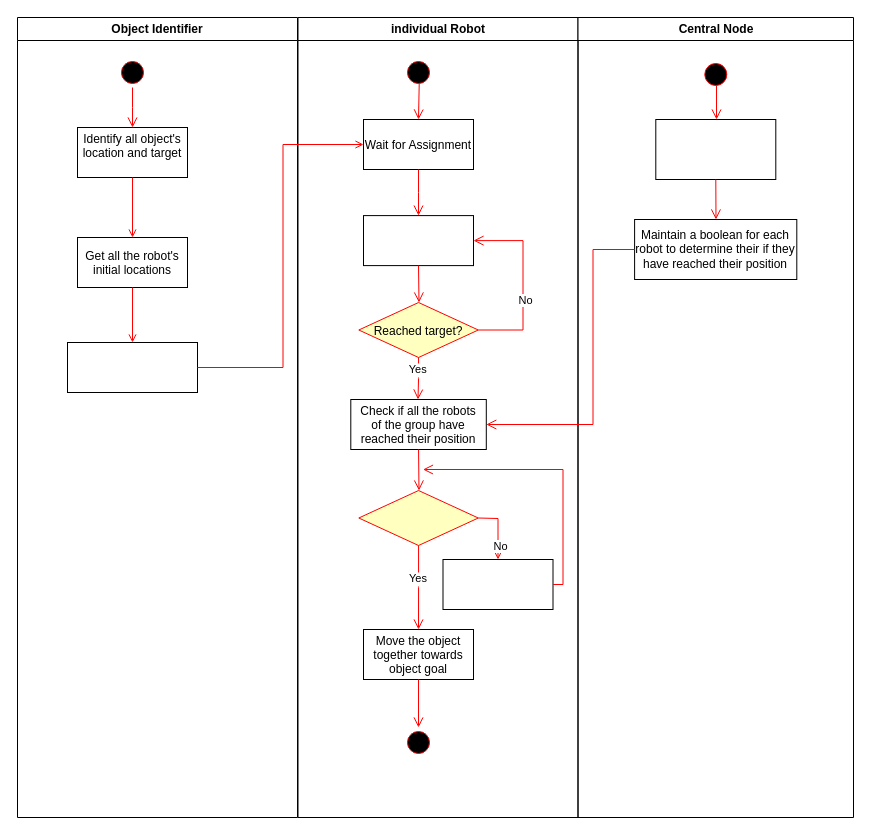
The diagram is 871 pixels wide and 835 high, and some of its shapes have lost their labels. Here are the shapes that lost their labels. From the top down, the box of each, then its label:
(655, 118, 776, 180): Keep track of robot position per object assignmeent
(362, 215, 474, 266): Go towards the objects
(66, 342, 198, 392): Assign the object point and final target point to each robot
(358, 490, 478, 546): Have all robots reached target
(442, 558, 553, 610): Wait
